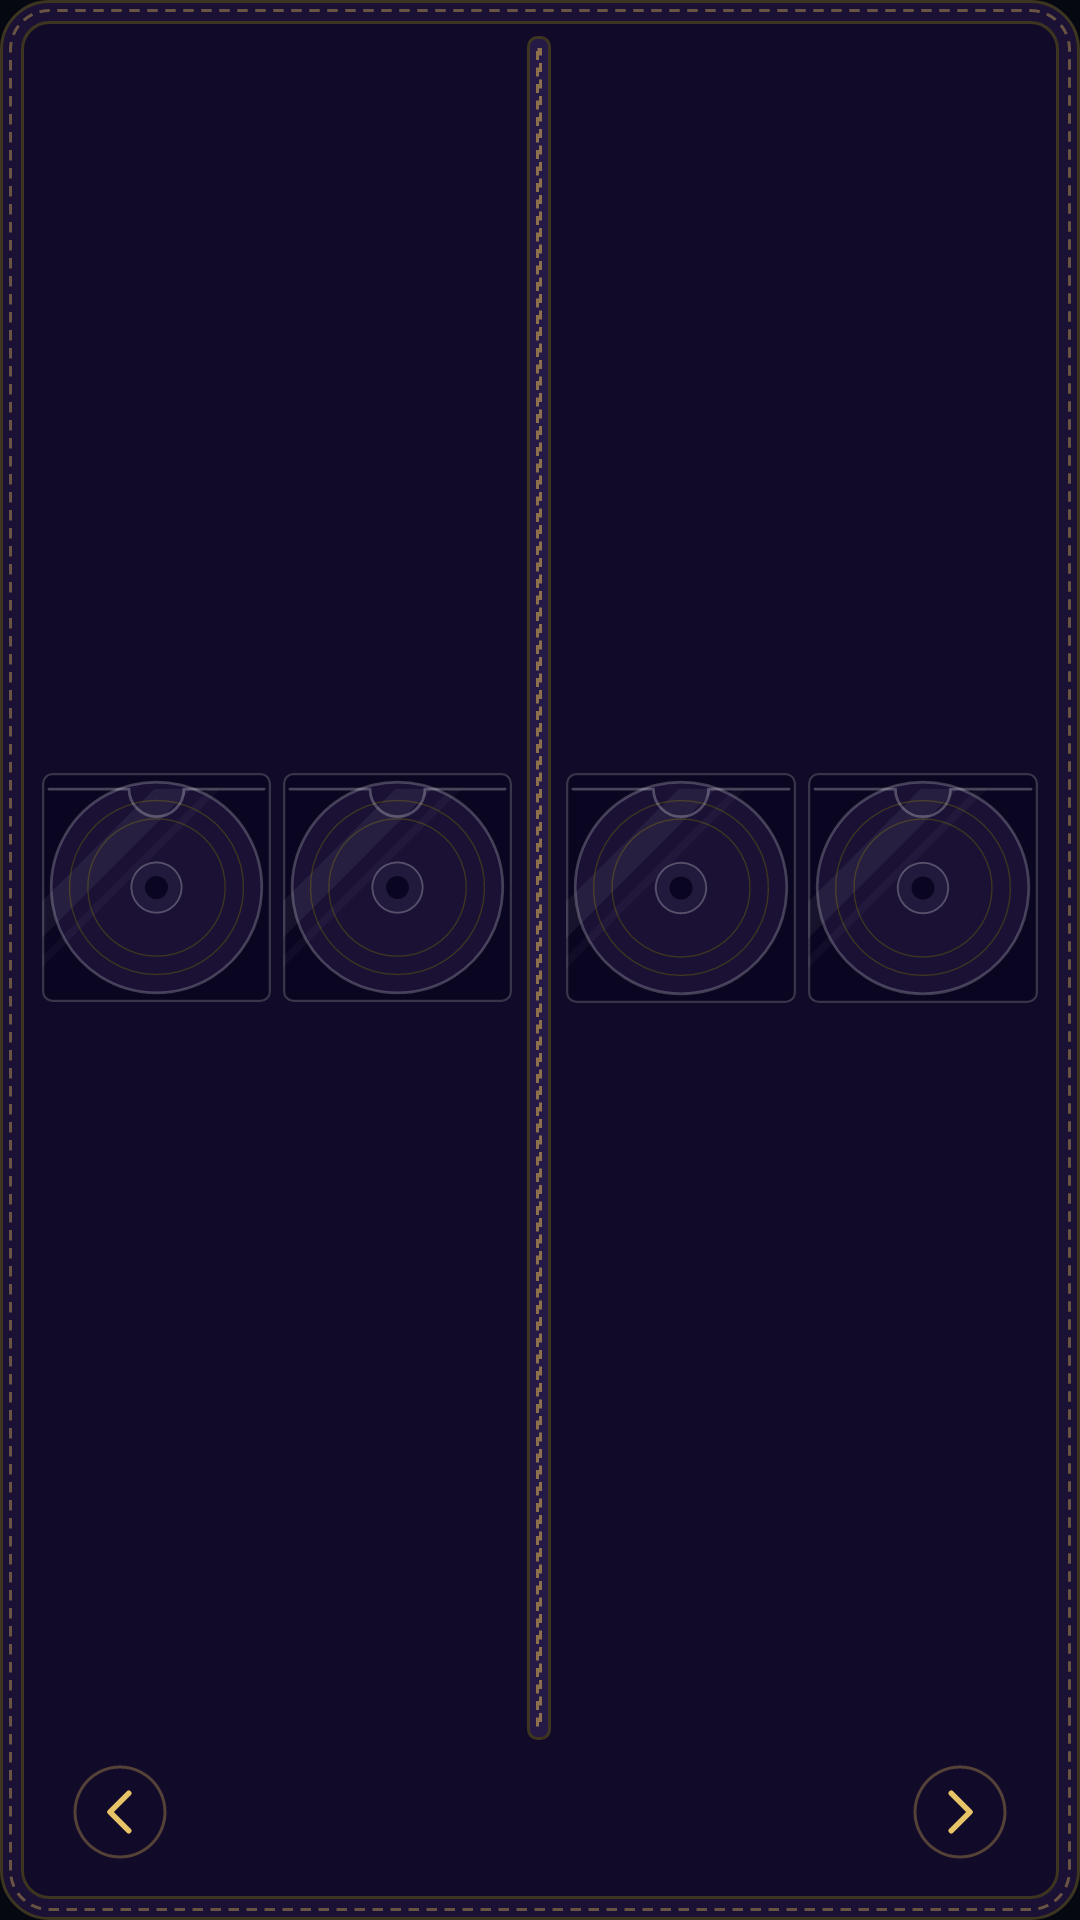

Icon bounding boxes for this 1080w x 1920h phone screenshot, format (x1,y1,x2,y2):
widget binder arrow next: (913,1765,1007,1859)
widget binder arrow prev: (73,1765,167,1859)
